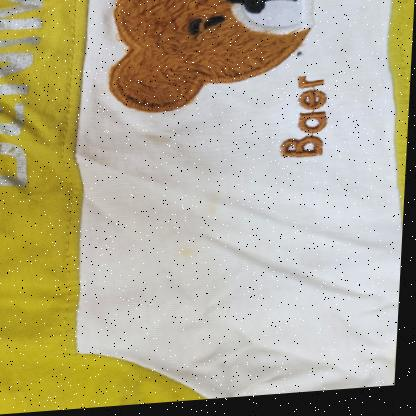spot: (161, 240, 204, 266), (202, 195, 225, 223), (294, 56, 308, 63)
